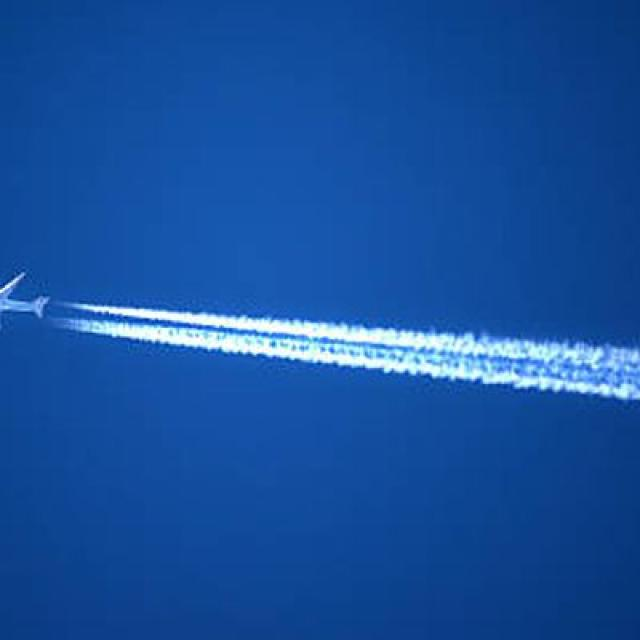Ct: (1, 224, 640, 475)
